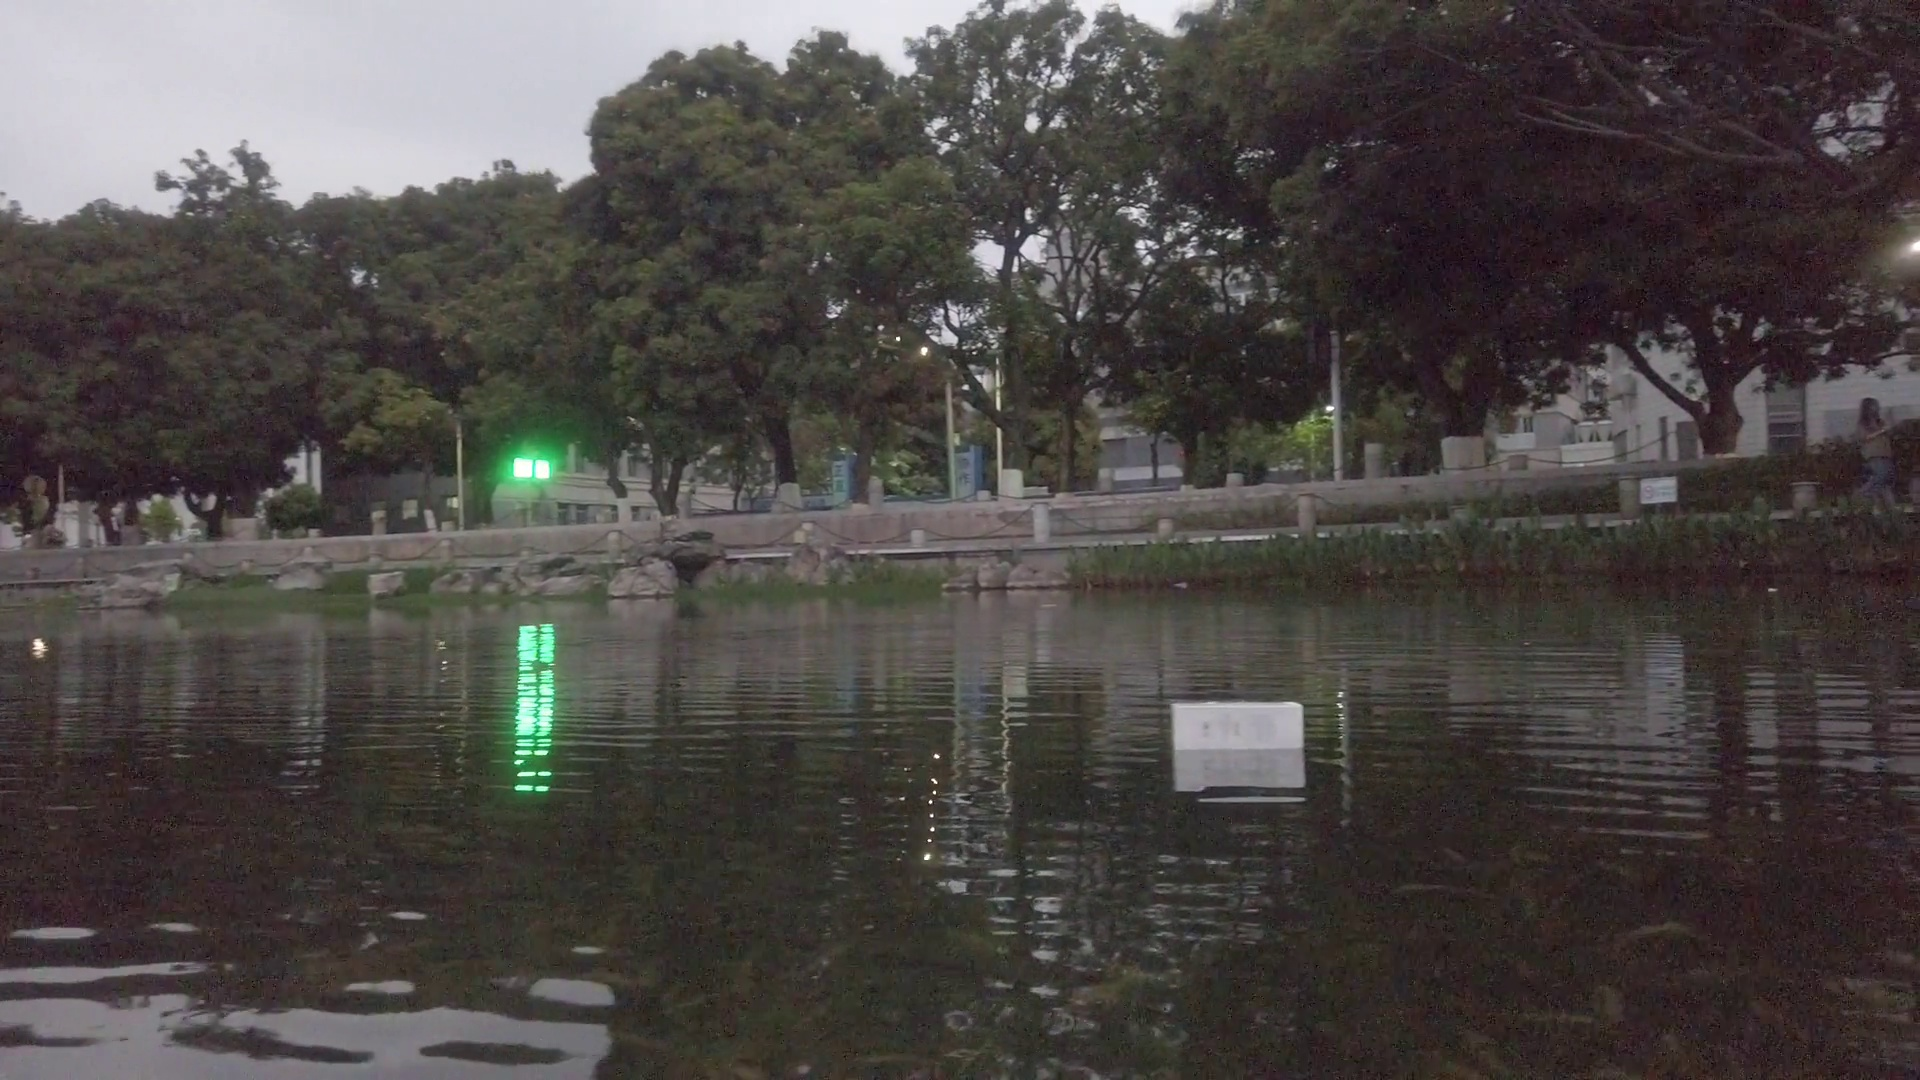carton: (1168, 702, 1303, 752)
